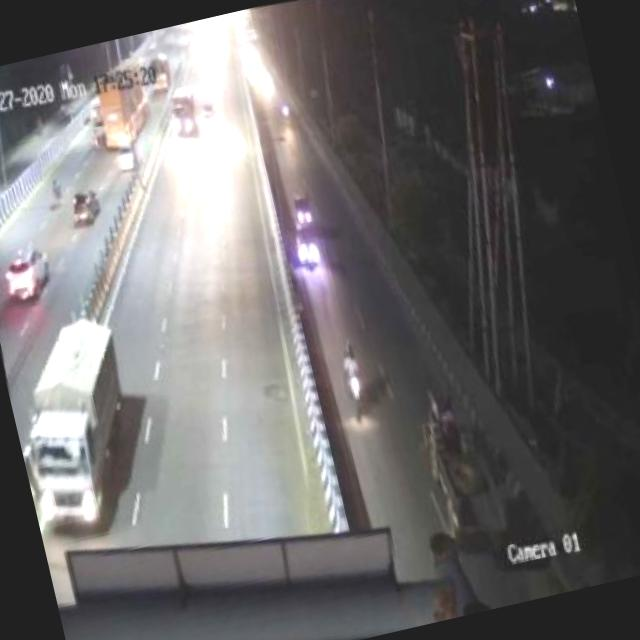car: (280, 218, 332, 282), (195, 100, 232, 150), (284, 186, 318, 228)
